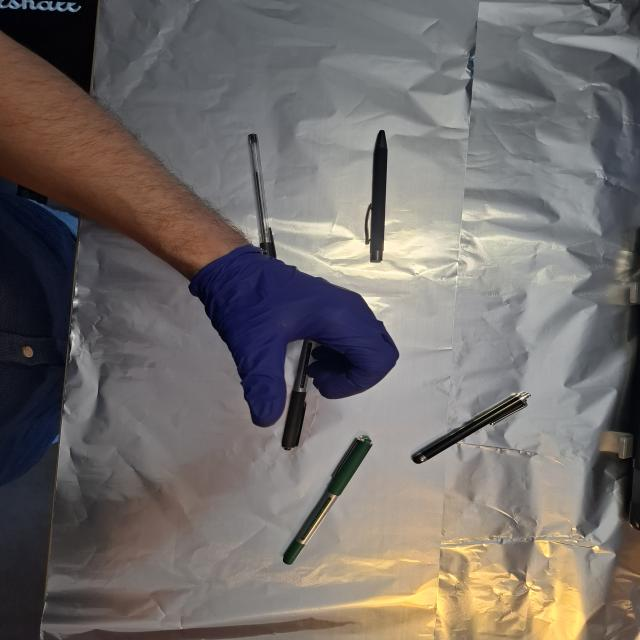glove_on: (186, 244, 403, 429)
